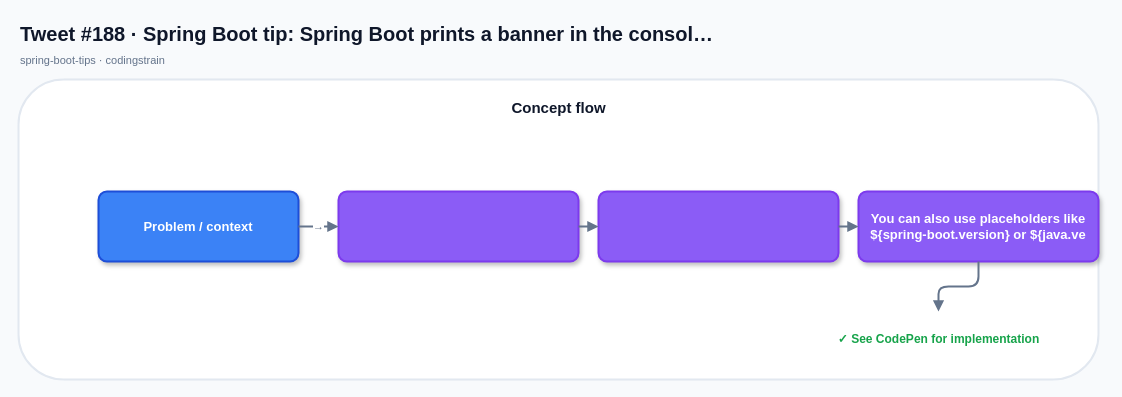
This 1122x397 diagram has some shape labels left out. The centre of each missing label's shape, as x and y in pixels:
"Add a file banner.txt in src/main/resources and put whatever content" goes at (719,227).
"💡 Spring Boot tip: Spring Boot prints a banner in the console when you" goes at (459,227).
